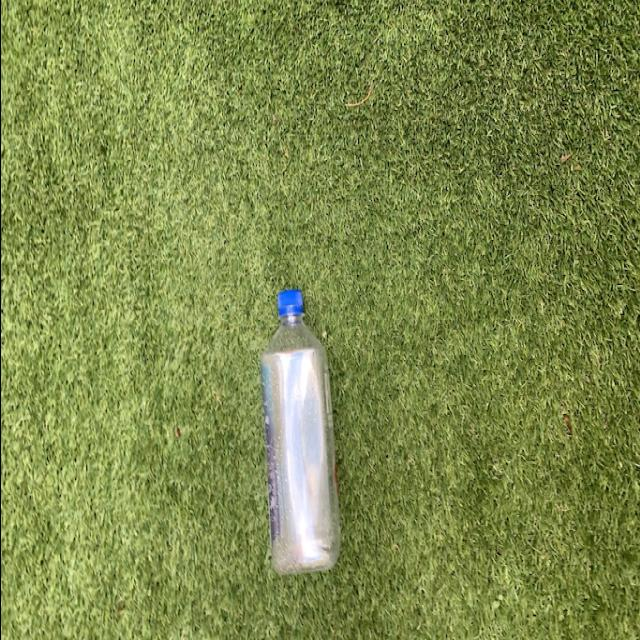PET: (267, 285, 338, 580)
